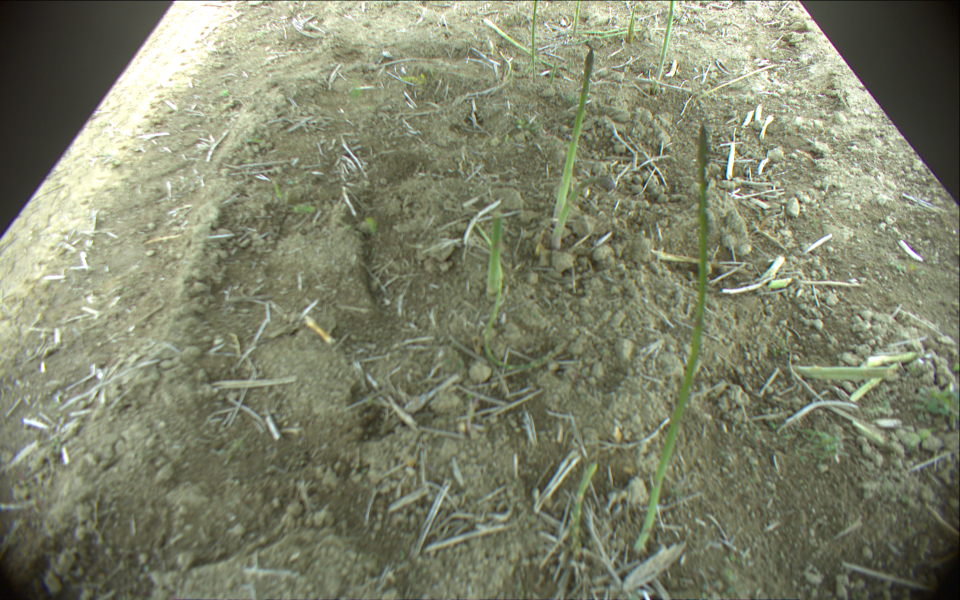aspa: (634, 124, 710, 552), (549, 50, 595, 222), (550, 175, 617, 250), (483, 19, 561, 70), (571, 461, 597, 556), (487, 209, 505, 299), (656, 1, 675, 81), (579, 24, 679, 37), (528, 1, 539, 79), (571, 1, 582, 34), (627, 11, 636, 40)
